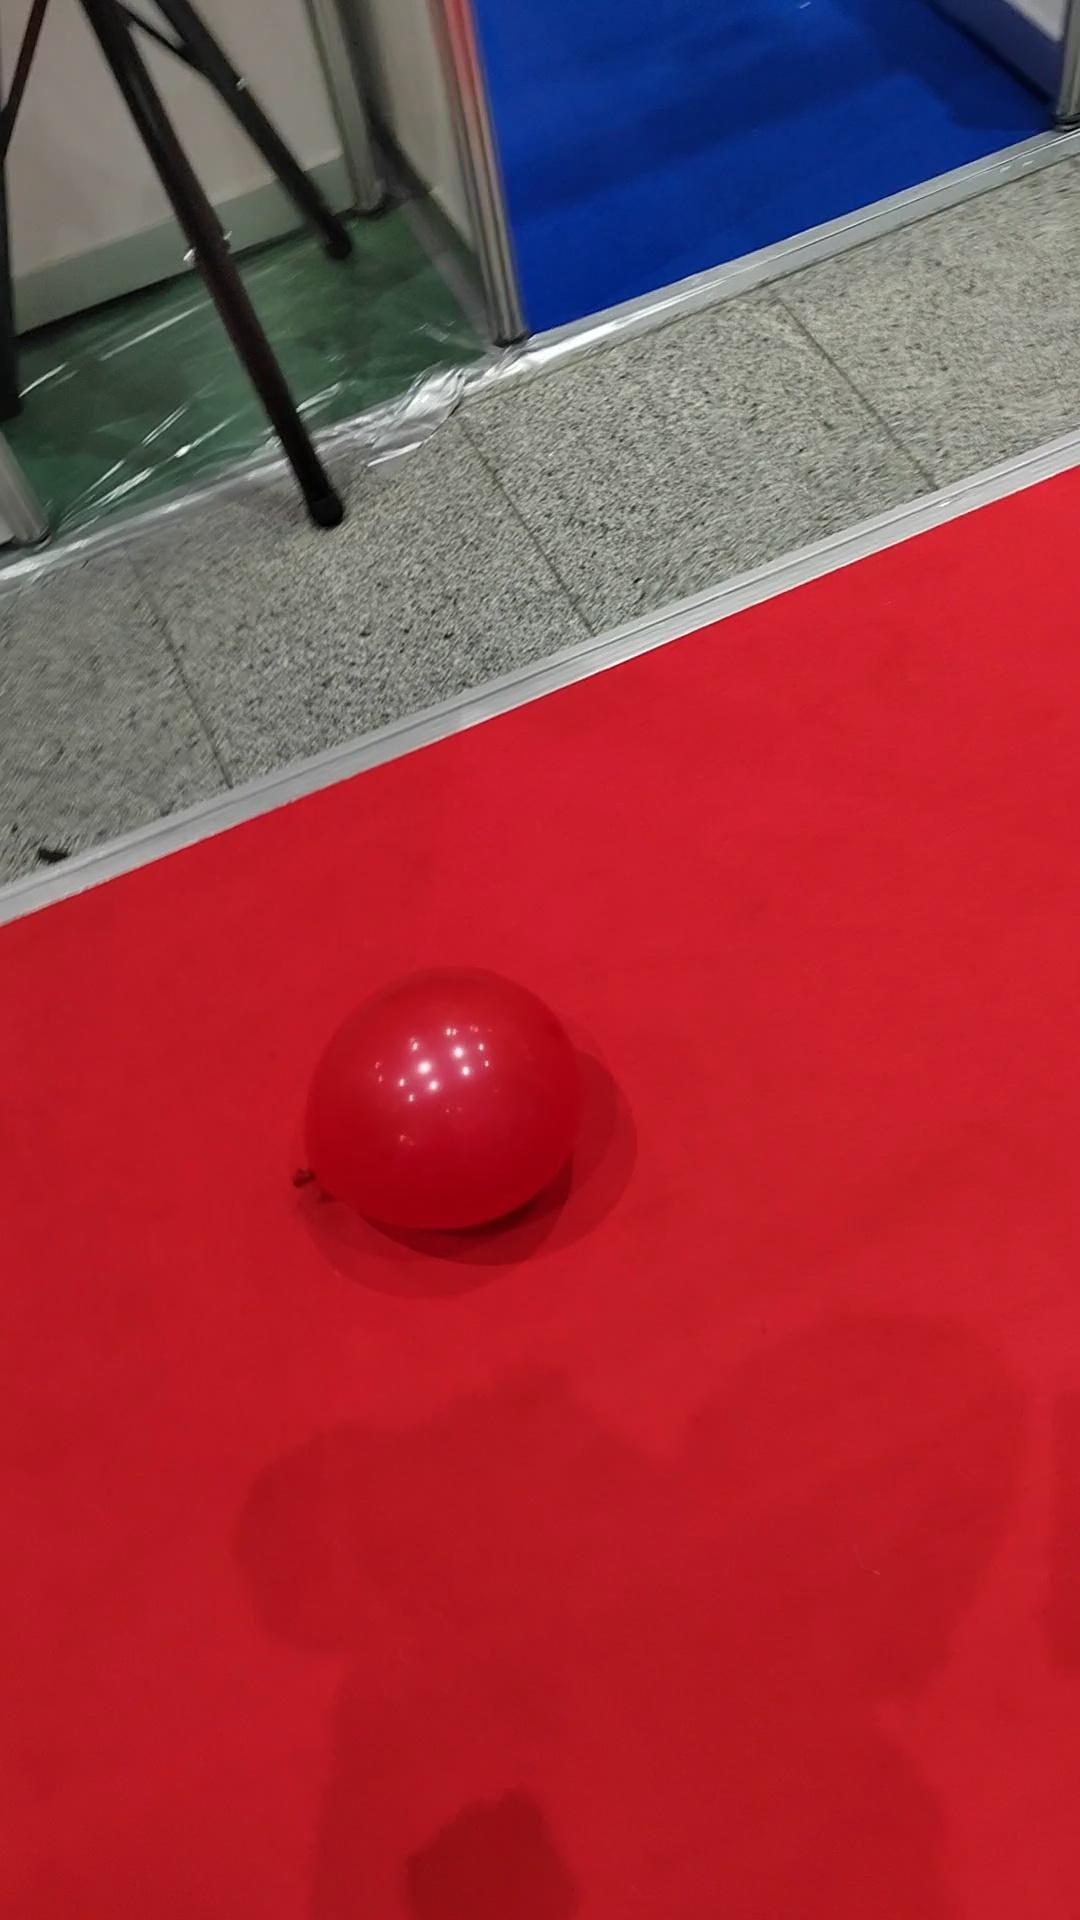red: (303, 967, 583, 1234)
